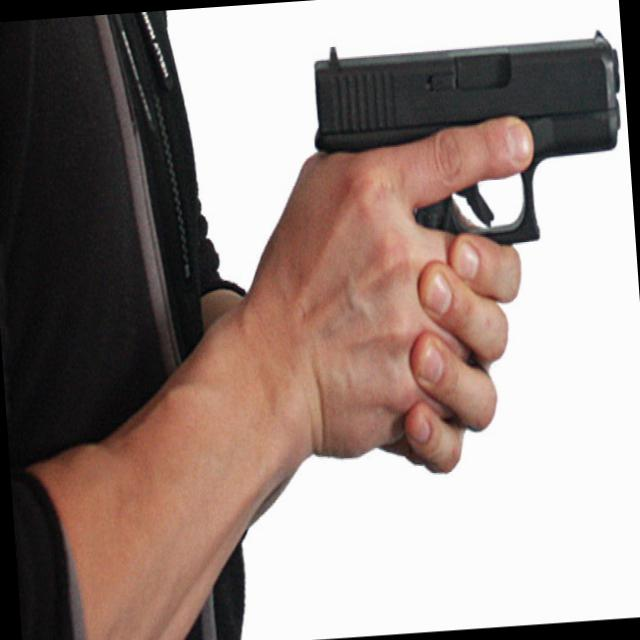handgun: (303, 16, 629, 256)
